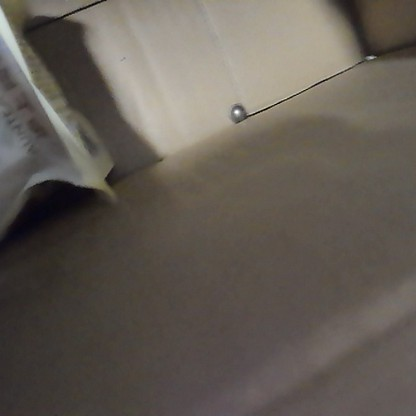ironball: (225, 97, 247, 126)
